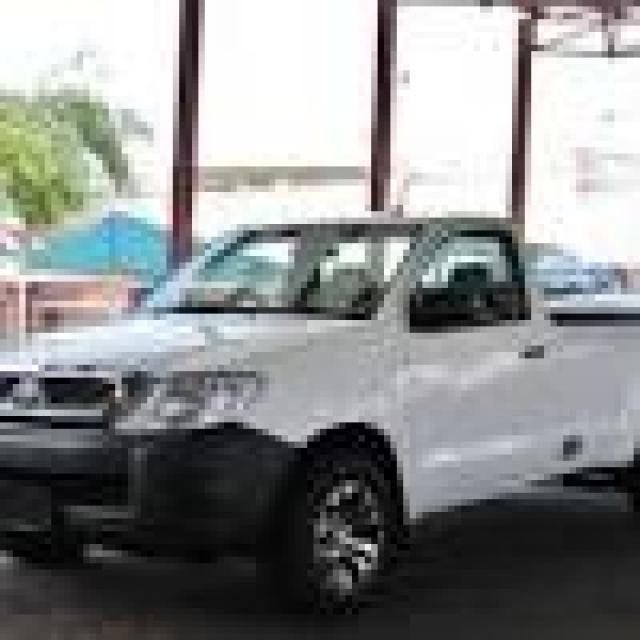Pickup Trucks: (6, 205, 640, 614)
